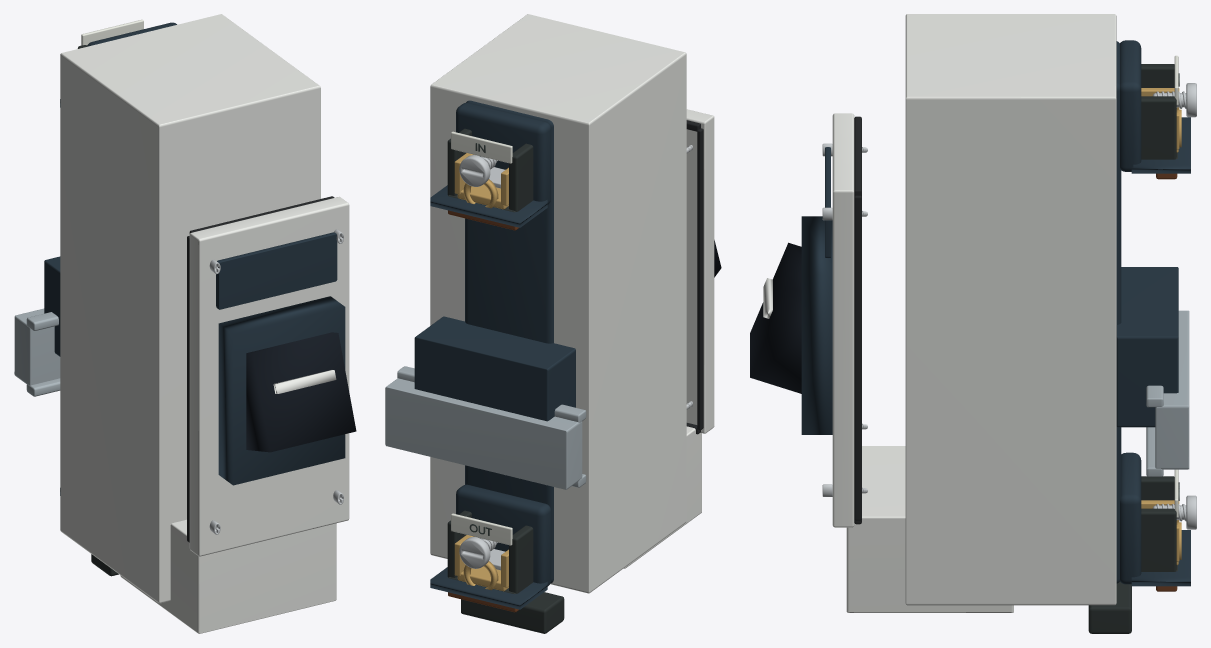
Rendered from mcb_default.glb.
3 renders of one model, left to right at view 1: azimuth 30°, elevation 25°; view 2: azimuth 150°, elevation 25°; view 3: azimuth 270°, elevation 25°, orthographic. The views are drawn at different scales.
Parts seen in each view (by area): view 1: part:body · Original 7dbee62c, part:cover, part:actuator, motion:toggle, part:mounting · Original 2a8198d3, detail:enclosure-gasket-and-fixings · Detail rubber gasket, part:body, Moulded terminal legend pad, detail:enclosure-gasket-and-fixings · Detail zinc plated fix; view 2: part:body · Original 7dbee62c, part:terminals · Original a463fd81, part:mounting · Original 2a8198d3, part:body, part:cover, DIN spring slider, detail:enclosure-gasket-and-fixings · Detail rubber gasket, detail:terminal-clamp:IN · Detail moulded engineering polyme, detail:terminal-clamp:OUT · Detail moulded engineering polym, detail:terminal-clamp:IN · Detail machined brass, detail:terminal-clamp:OUT · Detail machined brass, Moulded terminal legend pad (+3 smaller); view 3: part:body · Original 7dbee62c, part:terminals · Original a463fd81, part:cover, part:body, part:actuator, motion:toggle, part:mounting · Original 2a8198d3, detail:enclosure-gasket-and-fixings · Detail rubber gasket, detail:terminal-clamp:OUT · Detail moulded engineering polym, detail:terminal-clamp:IN · Detail moulded engineering polyme, DIN spring slider, detail:terminal-clamp:IN · Detail zinc plated fixing (+1 smaller).
Part boxes in pixels (box(x1,y1,x2,y2)): part:body · Original 7dbee62c: box(60, 14, 336, 633); part:cover: box(189, 196, 349, 556); part:actuator: box(218, 296, 345, 485); motion:toggle: box(246, 332, 356, 452); part:mounting · Original 2a8198d3: box(14, 308, 60, 396); detail:enclosure-gasket-and-fixings · Detail rubber gasket: box(187, 196, 334, 542); part:body: box(44, 256, 60, 356); Moulded terminal legend pad: box(81, 19, 143, 45); detail:enclosure-gasket-and-fixings · Detail zinc plated fix: box(209, 229, 343, 534); part:body · Original 7dbee62c: box(430, 14, 701, 593); part:terminals · Original a463fd81: box(430, 100, 553, 609); part:mounting · Original 2a8198d3: box(385, 366, 586, 489); part:body: box(414, 316, 575, 421); part:cover: box(686, 109, 714, 433); DIN spring slider: box(461, 592, 564, 633); detail:enclosure-gasket-and-fixings · Detail rubber gasket: box(686, 120, 703, 434); detail:terminal-clamp:IN · Detail moulded engineering polyme: box(447, 128, 533, 212); detail:terminal-clamp:OUT · Detail moulded engineering polym: box(447, 510, 533, 594); detail:terminal-clamp:IN · Detail machined brass: box(454, 153, 508, 209); detail:terminal-clamp:OUT · Detail machined brass: box(454, 535, 508, 591); Moulded terminal legend pad: box(451, 131, 512, 163); part:body · Original 7dbee62c: box(846, 14, 1116, 612); part:terminals · Original a463fd81: box(1116, 40, 1190, 586); part:cover: box(825, 113, 854, 527); part:body: box(1116, 267, 1178, 427); part:actuator: box(801, 216, 832, 434); motion:toggle: box(750, 242, 801, 393); part:mounting · Original 2a8198d3: box(1146, 310, 1189, 476); detail:enclosure-gasket-and-fixings · Detail rubber gasket: box(854, 116, 861, 524); detail:terminal-clamp:OUT · Detail moulded engineering polym: box(1141, 476, 1177, 571); detail:terminal-clamp:IN · Detail moulded engineering polyme: box(1141, 64, 1177, 159); DIN spring slider: box(1088, 581, 1131, 633); detail:terminal-clamp:IN · Detail zinc plated fixing: box(1153, 83, 1196, 117).
Size of the model in its own units: 0.3446 by 0.9324 by 0.678.
